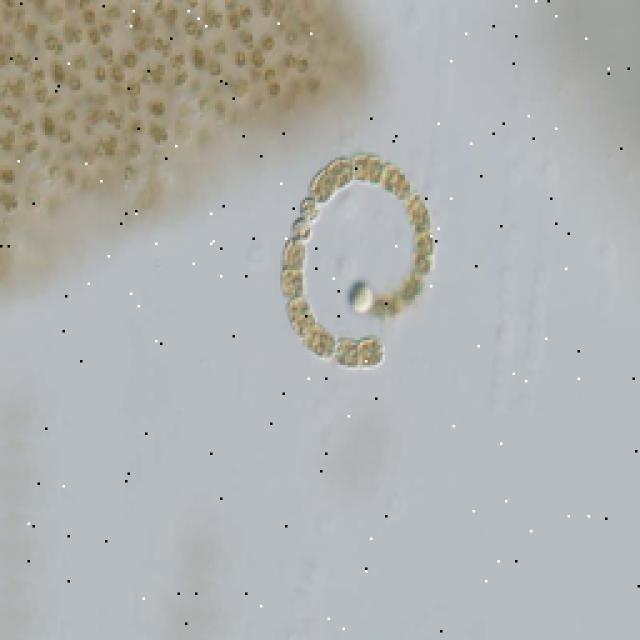Anabaena: (282, 151, 433, 377)
